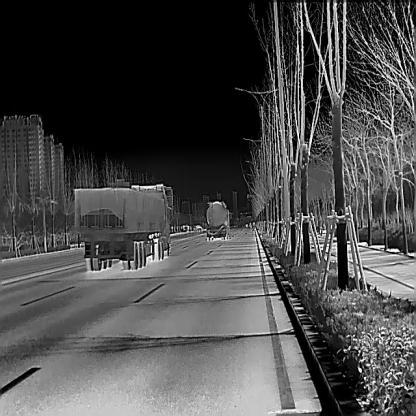car: (72, 181, 174, 271), (204, 199, 230, 240), (193, 223, 203, 231)
